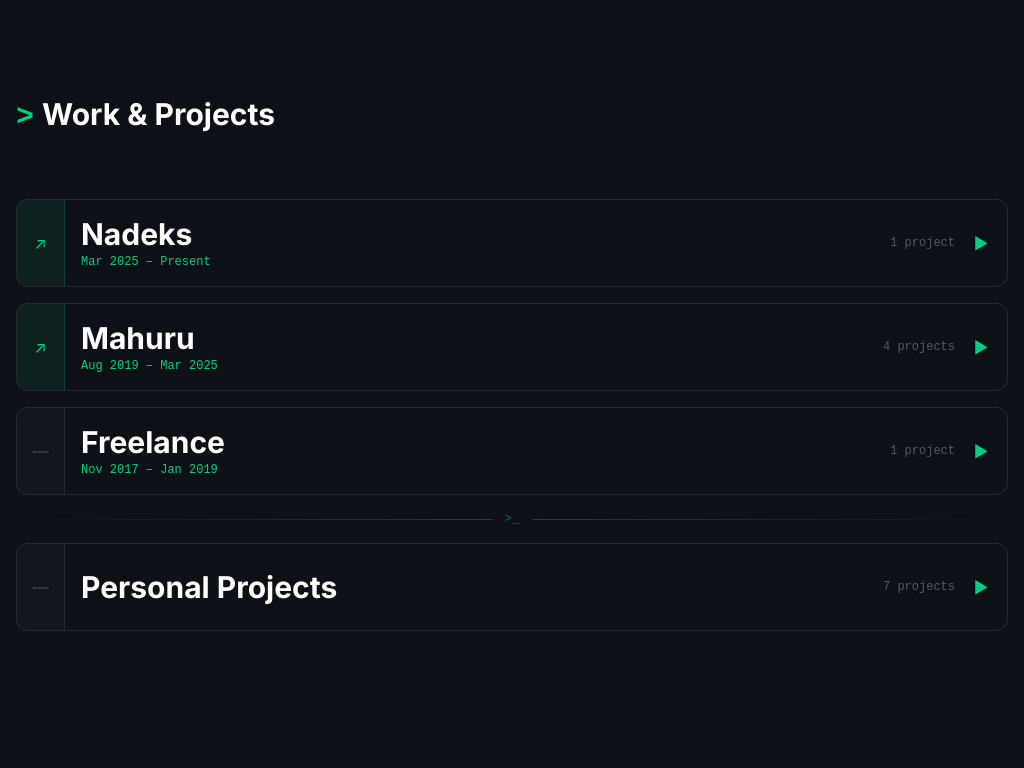
WorkAndProjects › показывает боковую полосу-ссылку для проектов с GitHub URL
Click the text "7 projects": {"x": 919, "y": 587} [883,579,955,595]
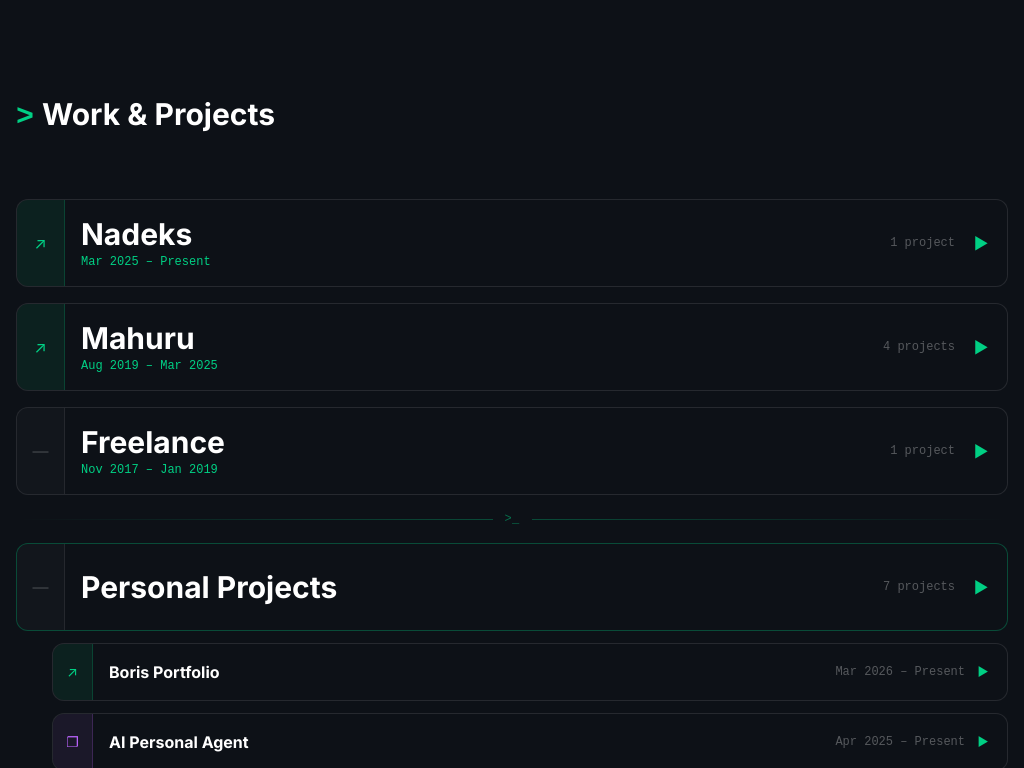
Expected: the link titled "GitHub" next to "Boris Portfolio" is shown, [53,644,93,700]
